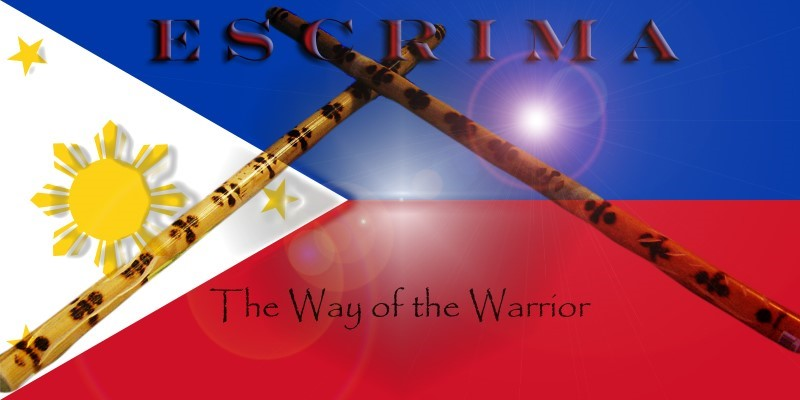baston_e: (26, 30, 430, 380), (345, 44, 783, 352)
baston_v: (0, 331, 24, 400), (263, 1, 288, 31), (426, 20, 451, 43)
